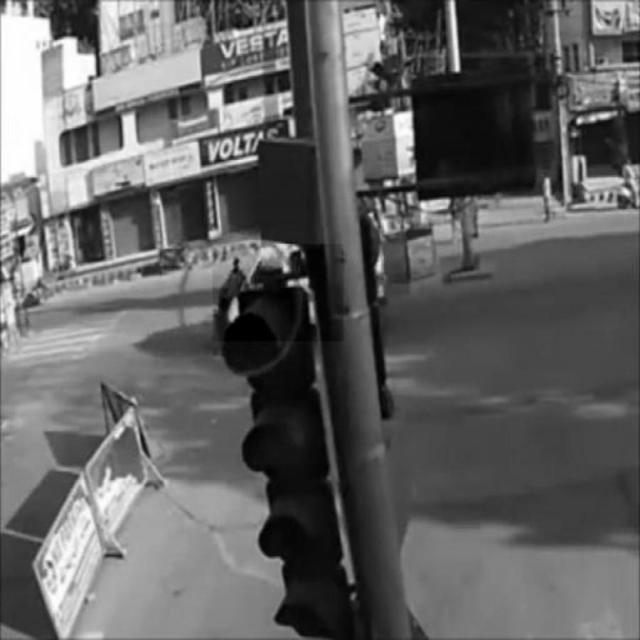accident: (213, 244, 344, 342)
